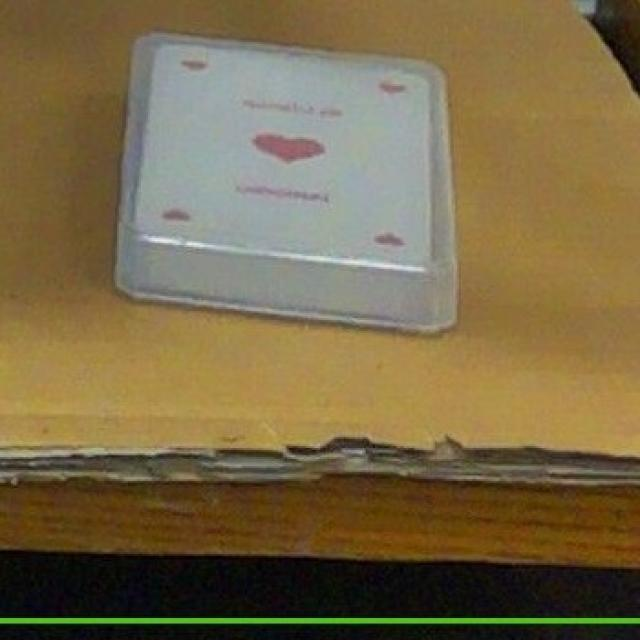Jasskarte: (114, 35, 458, 332)
